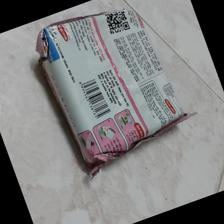Haohao: (37, 7, 196, 180)
